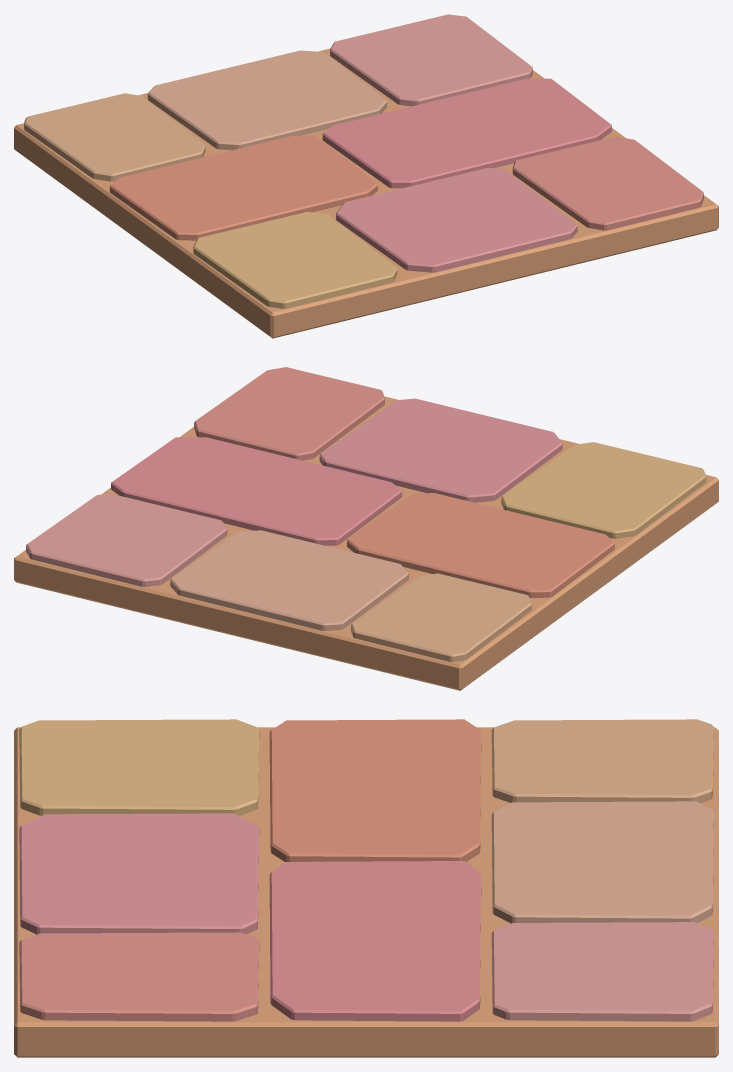
File: WC_RIVER_Ground_Stone_A.glb
3 renders of one model, top to bottom at view 1: azimuth 30°, elevation 25°; view 2: azimuth 150°, elevation 25°; view 3: azimuth 270°, elevation 25°, orthographic. The views are drawn at different scales.
Visible parts, largest first — view 1: WC_RIVER_Ground_Stone_A_RenderMesh; view 2: WC_RIVER_Ground_Stone_A_RenderMesh; view 3: WC_RIVER_Ground_Stone_A_RenderMesh.
Part boxes in pixels (<box>): WC_RIVER_Ground_Stone_A_RenderMesh: <box>14,14,718,338</box>; WC_RIVER_Ground_Stone_A_RenderMesh: <box>14,367,718,690</box>; WC_RIVER_Ground_Stone_A_RenderMesh: <box>14,719,718,1057</box>.
Bounding box in the file's own units: 2 × 0.14 × 2.
